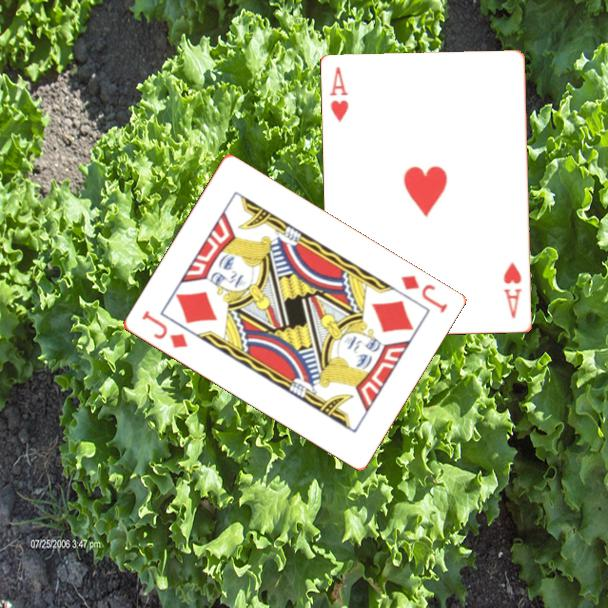d11: (397, 272, 450, 316), (138, 307, 190, 351)
h01: (500, 259, 525, 321), (326, 64, 351, 126)
